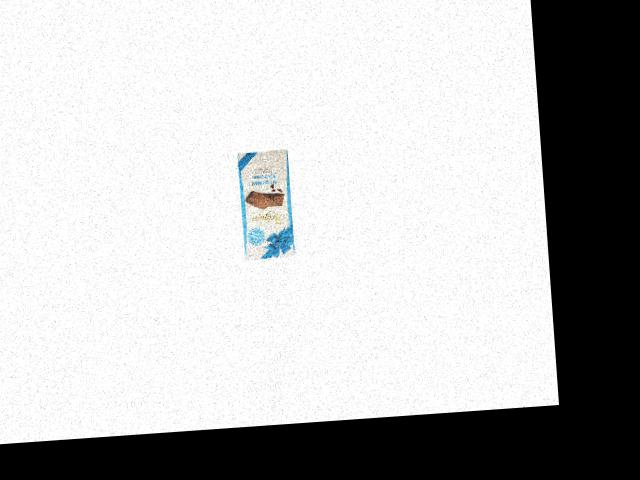chocolate: (232, 146, 302, 261)
